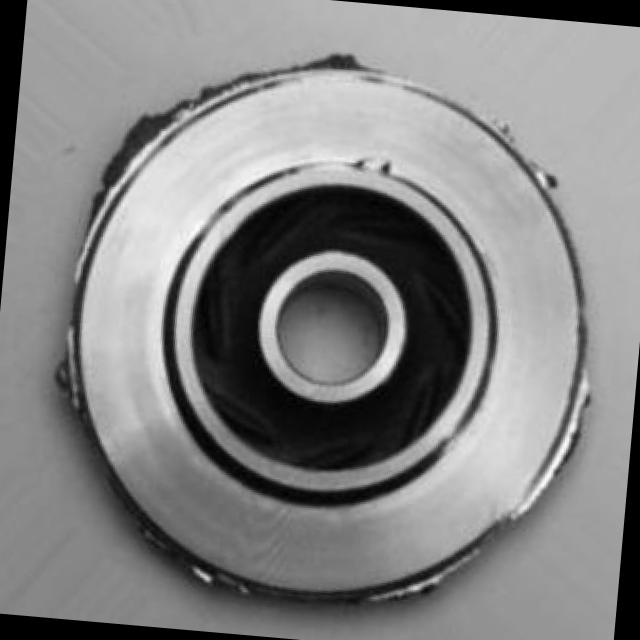Defect: (353, 148, 412, 190)
